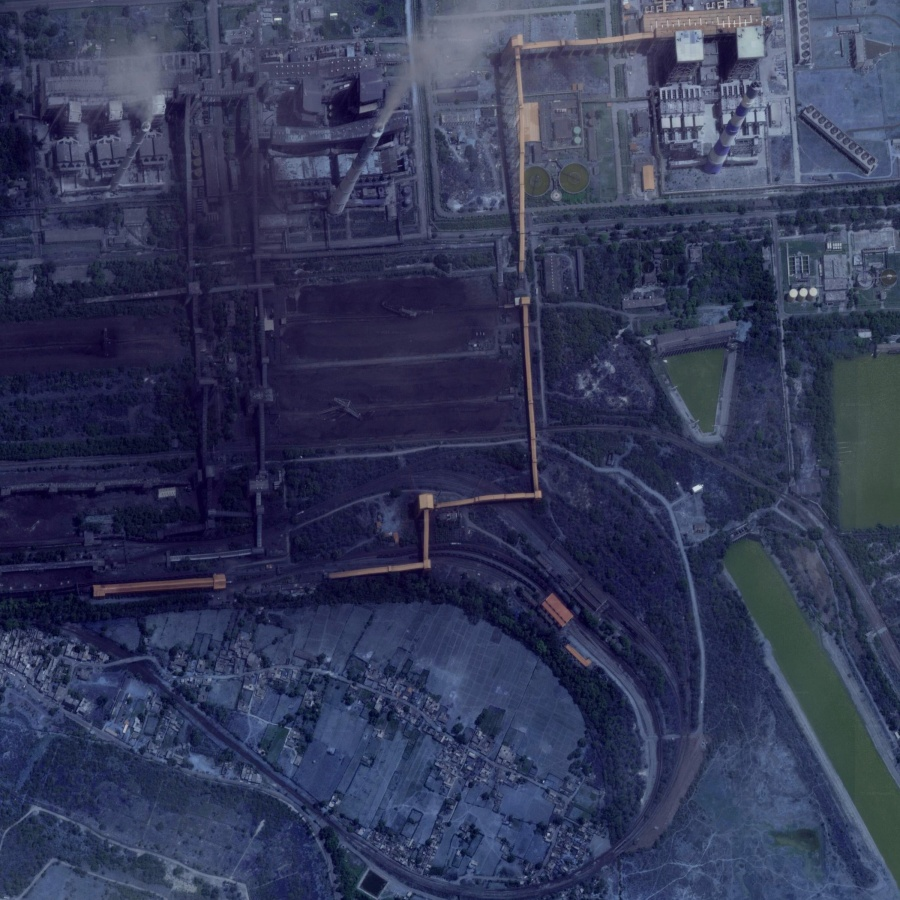PowerPlant: (652, 8, 776, 188)
